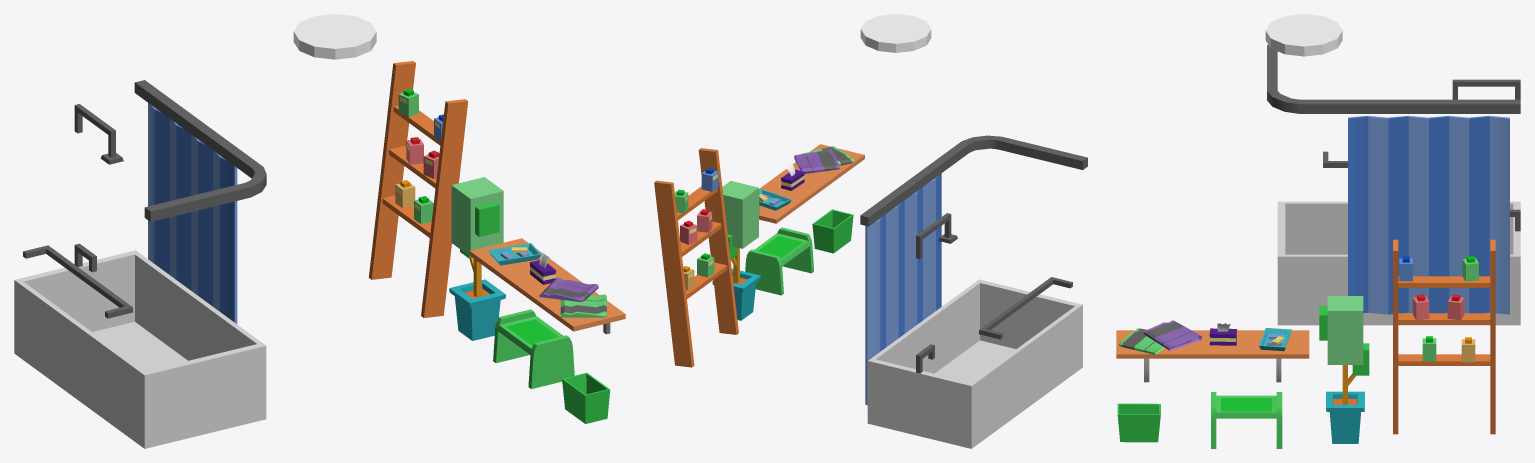
File: BanosObjetos06.fbx
3 renders of one model, left to right at view 1: azimuth 30°, elevation 25°; view 2: azimuth 150°, elevation 25°; view 3: azimuth 270°, elevation 25°, orthographic. The views are drawn at different scales.
Parts seen in each view (by area): view 1: BanosObjetos06; view 2: BanosObjetos06; view 3: BanosObjetos06.
Part boxes in pixels (bbox=[...]): BanosObjetos06: bbox=[14, 14, 625, 448]; BanosObjetos06: bbox=[654, 14, 1087, 448]; BanosObjetos06: bbox=[1116, 14, 1520, 448].
Bounding box in the file's own units: 408 × 341 × 374.
